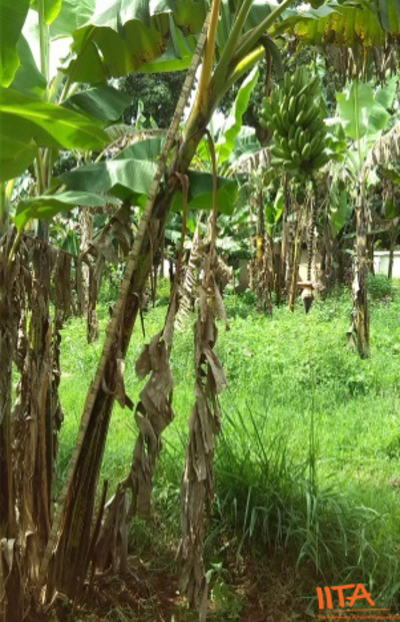bananaHand: (254, 65, 340, 174)
